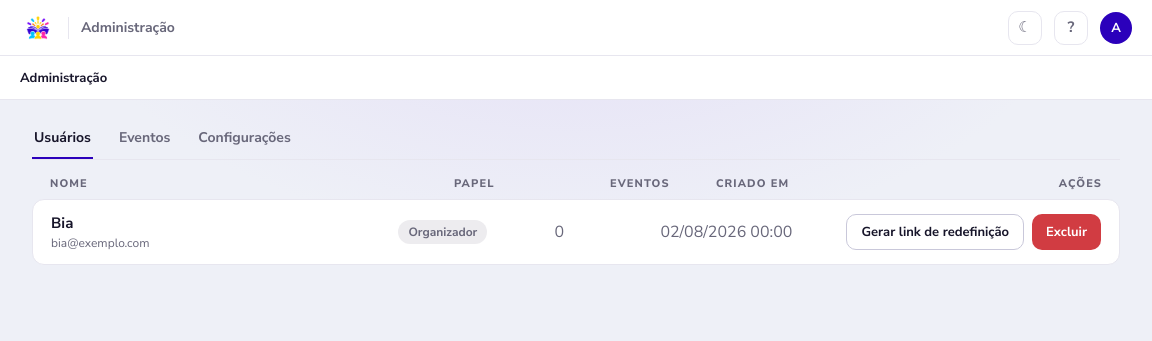
Administração (super admin) › gera link de redefinição de senha e mostra a URL
This screenshot has width=1152, height=341.
expect the text "Bia" is shown: met, box [51,213,73,233]
Step 1. Click the button "Gerar link de redefinição" → (935, 232), box [846,214,1024,250]
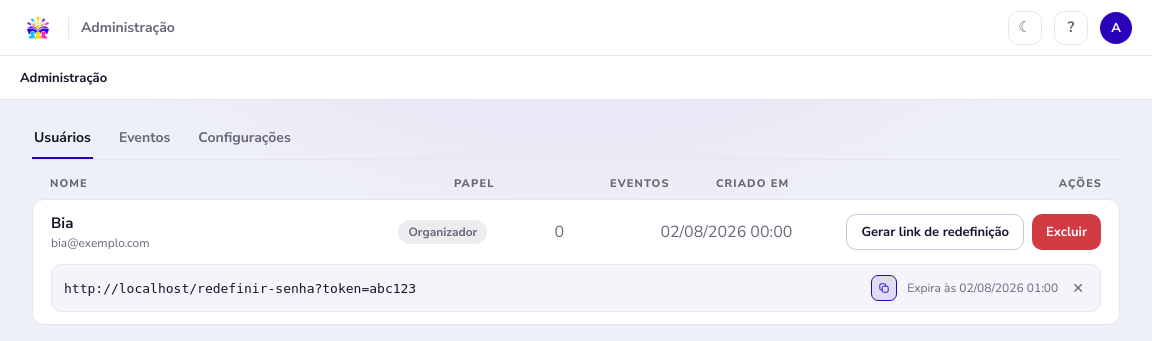
expect the text "http://localhost/redefinir-senha?token=abc123" is shown: met, box [64,280,416,296]
